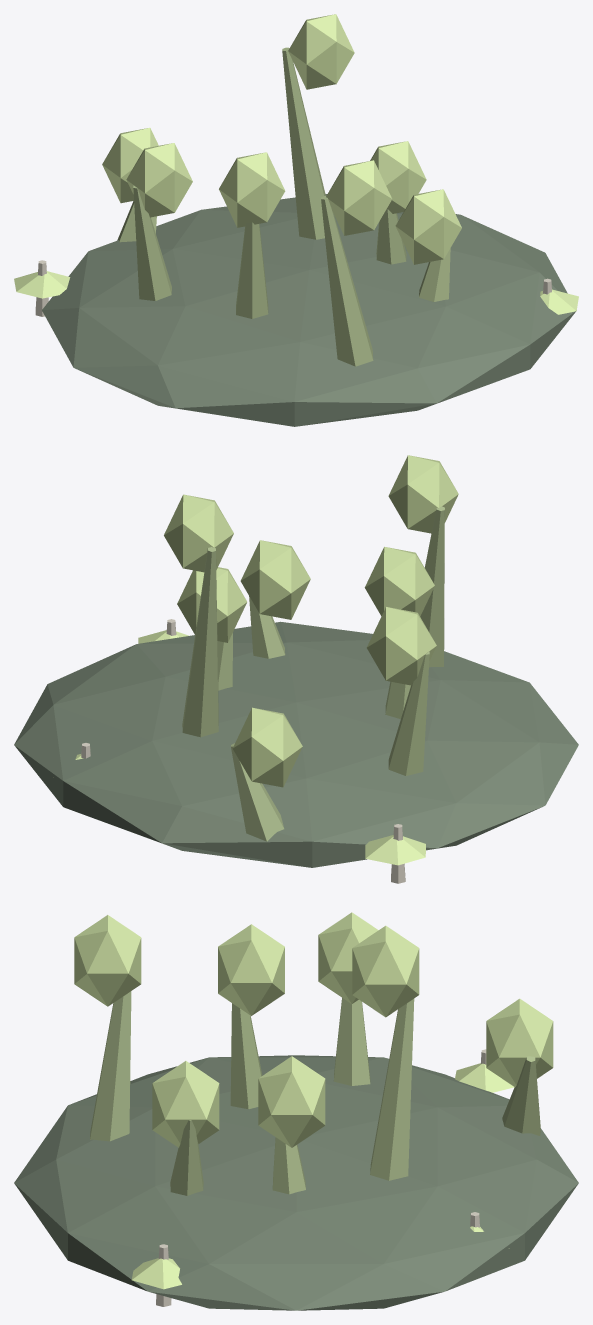
The model's file is hunger_spore_vent.glb.
3 renders of one model, top to bottom at view 1: azimuth 30°, elevation 25°; view 2: azimuth 150°, elevation 25°; view 3: azimuth 270°, elevation 25°, orthographic. The views are drawn at different scales.
Parts seen in each view (by area): view 1: hunger_spore_vent_material_00, hunger_spore_vent_material_02, hunger_spore_vent_material_01; view 2: hunger_spore_vent_material_00, hunger_spore_vent_material_02, hunger_spore_vent_material_01, hunger_spore_vent_material_03; view 3: hunger_spore_vent_material_00, hunger_spore_vent_material_02, hunger_spore_vent_material_01, hunger_spore_vent_material_03.
Boxes of the visible parts, x1=… form: hunger_spore_vent_material_00: x1=42, y1=194, x2=576, y2=426; hunger_spore_vent_material_02: x1=14, y1=14, x2=578, y2=314; hunger_spore_vent_material_01: x1=117, y1=47, x2=450, y2=366; hunger_spore_vent_material_00: x1=14, y1=621, x2=578, y2=867; hunger_spore_vent_material_02: x1=75, y1=455, x2=458, y2=865; hunger_spore_vent_material_01: x1=182, y1=506, x2=444, y2=841; hunger_spore_vent_material_03: x1=81, y1=619, x2=405, y2=883; hunger_spore_vent_material_00: x1=14, y1=1055, x2=578, y2=1310; hunger_spore_vent_material_02: x1=74, y1=912, x2=553, y2=1289; hunger_spore_vent_material_01: x1=90, y1=991, x2=540, y2=1195; hunger_spore_vent_material_03: x1=156, y1=1049, x2=486, y2=1306.
Bounding box in the file's own units: 1.84 × 1.08 × 1.72.
